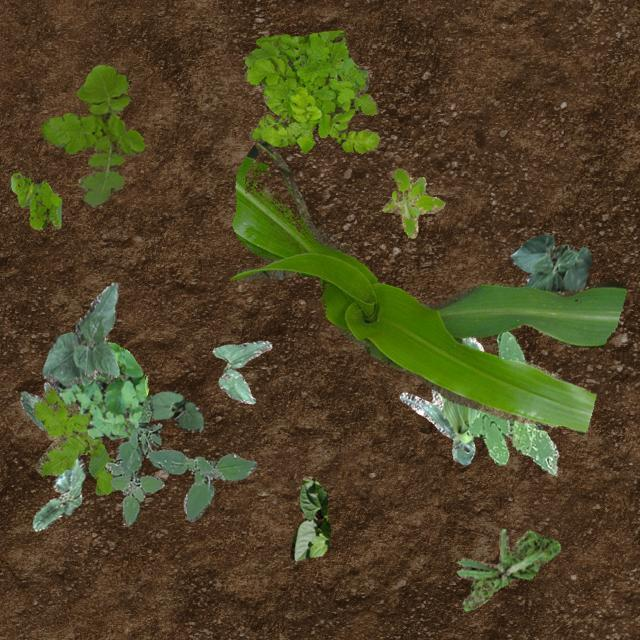crop: (230, 140, 626, 433), (398, 336, 482, 464), (42, 282, 118, 388), (510, 232, 590, 292), (32, 456, 84, 530), (212, 340, 270, 402), (290, 476, 330, 560), (148, 388, 204, 431), (18, 381, 50, 428)
weed: (104, 394, 256, 524), (243, 30, 379, 152), (40, 62, 144, 206), (468, 329, 558, 474), (52, 340, 148, 438), (31, 386, 114, 494), (456, 528, 558, 610), (381, 168, 444, 238), (10, 172, 60, 228)
